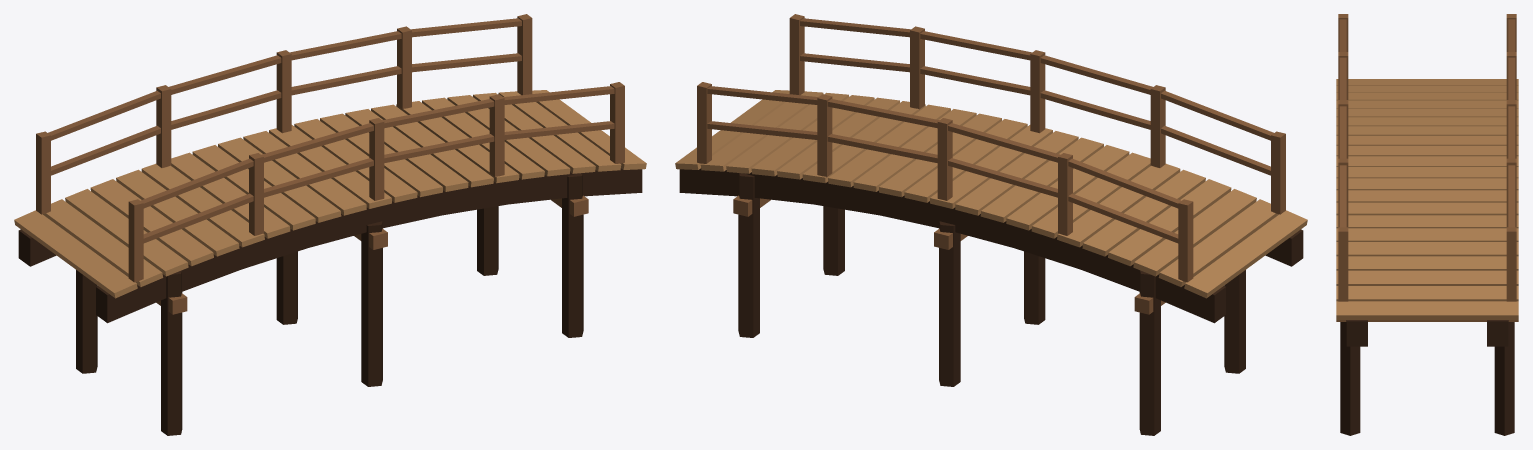
Rendered from bridge_wood.fbx.
The picture shows the model from 3 angles, left to right: view 1: azimuth 30°, elevation 25°; view 2: azimuth 150°, elevation 25°; view 3: azimuth 270°, elevation 25°; orthographic projection. The views are drawn at different scales.
Visible parts, largest first — view 1: bridge_wood; view 2: bridge_wood; view 3: bridge_wood.
Part boxes in pixels (<box>): bridge_wood: <box>14,14,646,435</box>; bridge_wood: <box>675,14,1307,435</box>; bridge_wood: <box>1336,14,1518,435</box>.
Bounding box in the file's own units: 8 × 3.78 × 2.6.
